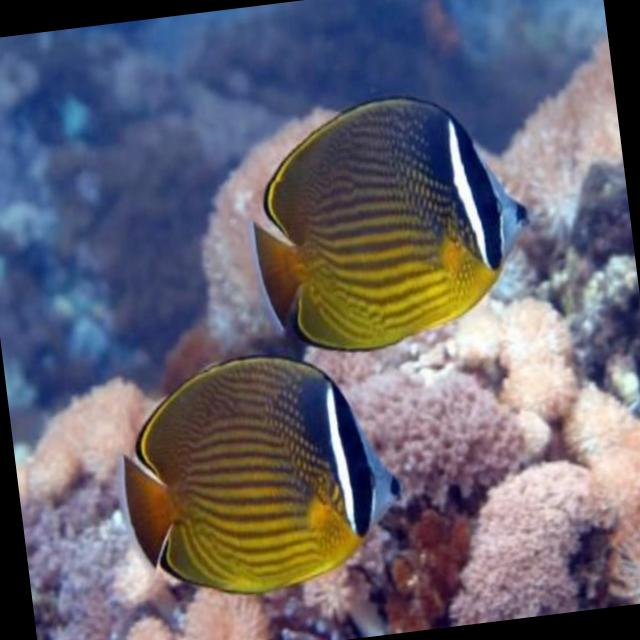ButterflyFish: (237, 76, 544, 362), (106, 338, 413, 609)
